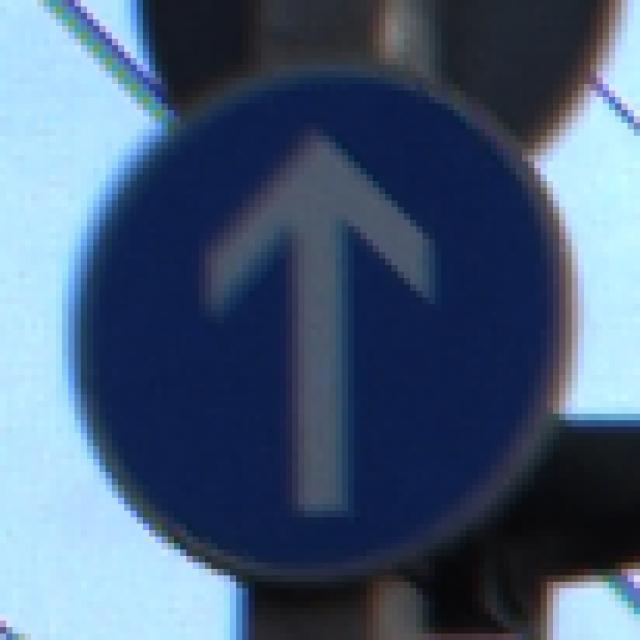compulsary ahead: (65, 49, 580, 571)
